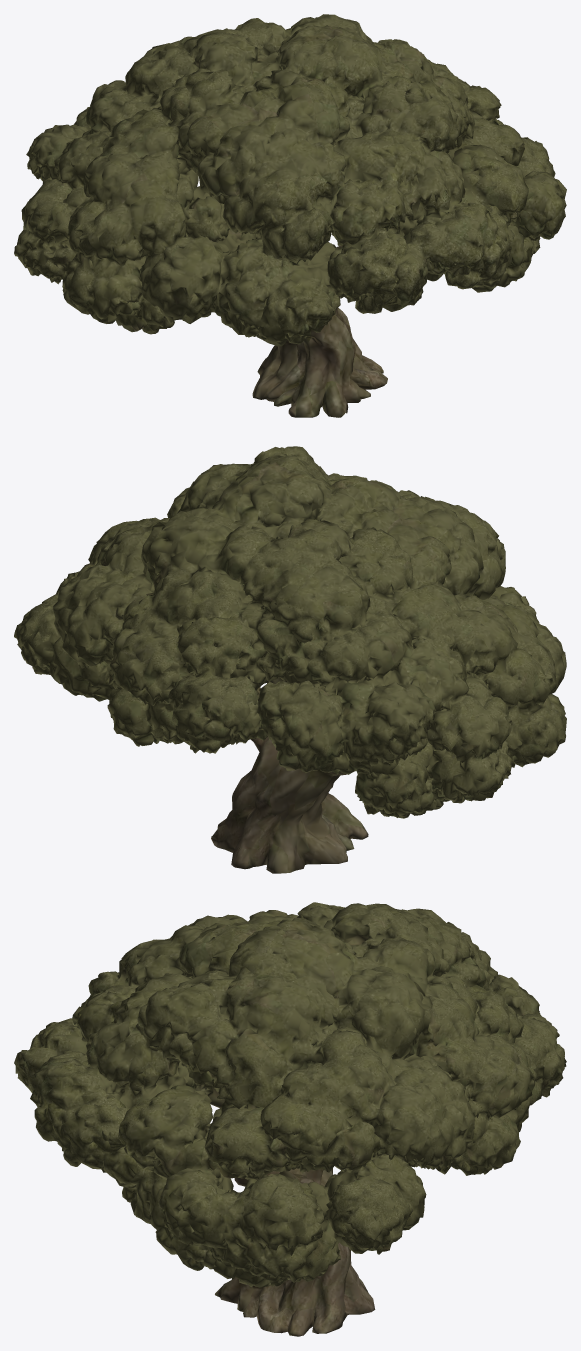
File: encina.glb
The picture shows the model from 3 angles, top to bottom: view 1: azimuth 30°, elevation 25°; view 2: azimuth 150°, elevation 25°; view 3: azimuth 270°, elevation 25°; orthographic projection. The views are drawn at different scales.
Parts seen in each view (by area): view 1: aligerado; view 2: aligerado; view 3: aligerado.
Boxes of the visible parts, x1=… form: aligerado: x1=14, y1=14, x2=566, y2=417; aligerado: x1=14, y1=446, x2=566, y2=873; aligerado: x1=14, y1=902, x2=566, y2=1336.
Bounding box in the file's own units: 7.81 × 5.5 × 7.28.
Materials: 1 (1 with a texture image).
